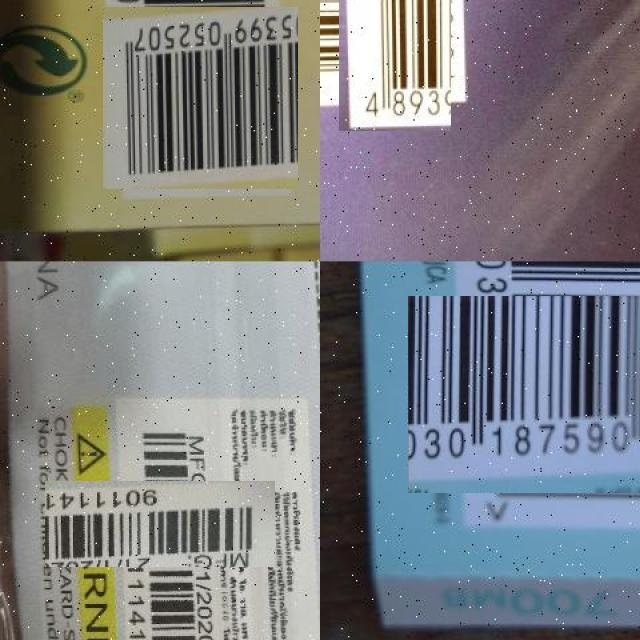Barcode: (425, 278, 640, 510), (106, 4, 294, 192), (81, 445, 239, 604), (329, 0, 460, 122)
